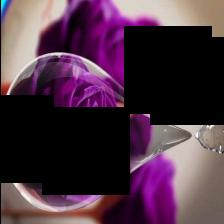purple: (37, 0, 183, 114), (39, 54, 122, 203), (102, 155, 176, 224)
